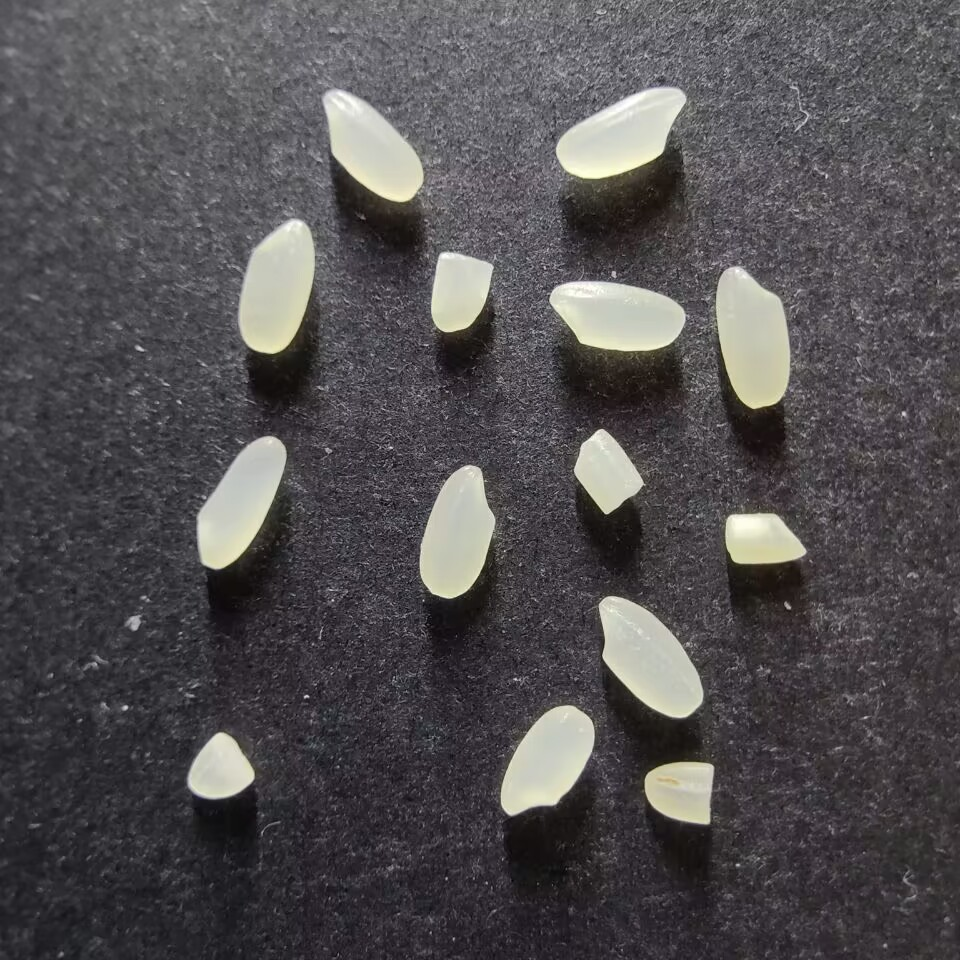broken: (572, 428, 645, 515), (431, 250, 493, 333), (185, 731, 255, 799), (643, 760, 715, 825), (723, 511, 807, 566)
rice: (597, 595, 704, 719), (555, 86, 686, 180), (196, 434, 286, 570), (321, 87, 423, 202), (499, 704, 595, 818), (714, 266, 790, 409), (237, 218, 314, 354), (418, 464, 495, 599), (548, 280, 685, 352)
